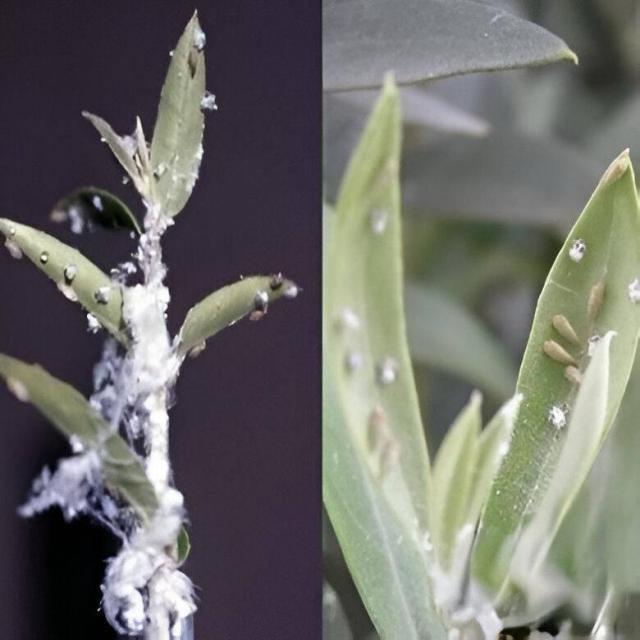Psyllid: (0, 11, 299, 639), (471, 150, 639, 618)
